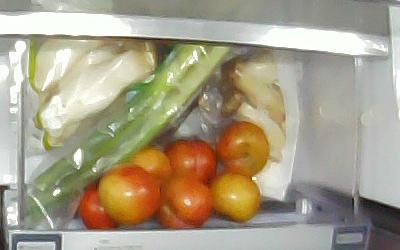prune: (97, 162, 161, 224), (214, 119, 270, 177), (154, 176, 213, 228), (162, 137, 218, 187), (208, 171, 260, 222), (78, 177, 118, 229), (123, 146, 173, 185)
